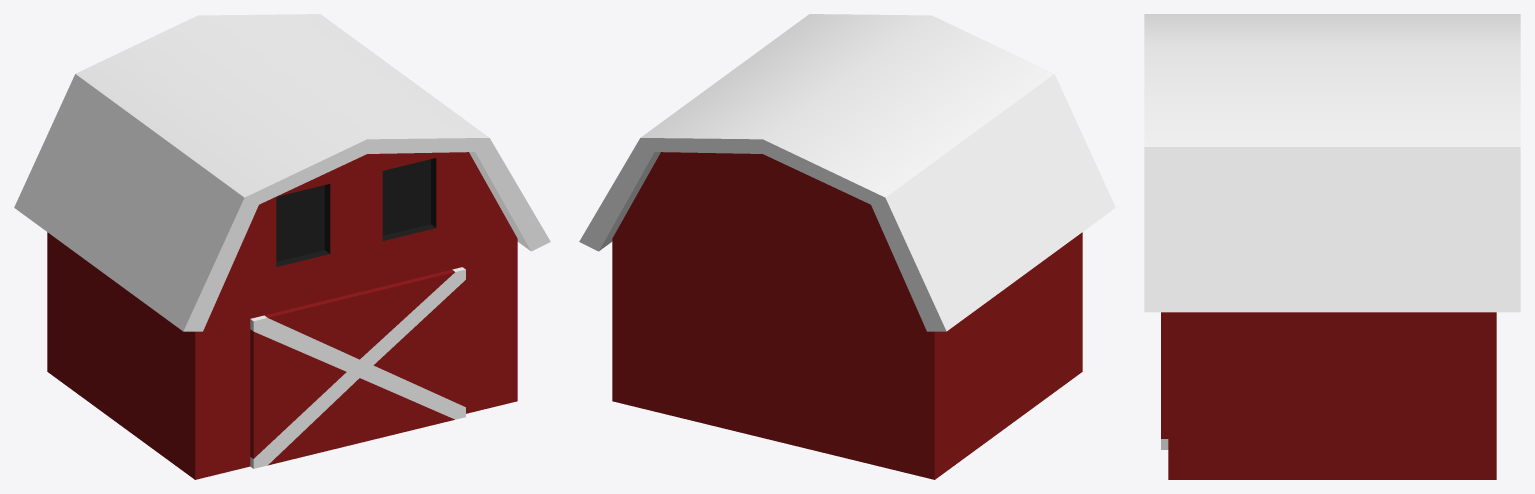
File: Grange.FBX
3 views of the same model, side by side, from view 1: azimuth 30°, elevation 25°; view 2: azimuth 150°, elevation 25°; view 3: azimuth 270°, elevation 25° (orthographic). The views are drawn at different scales.
Visible parts, largest first — view 1: Plane002, Object001; view 2: Plane002, Object001; view 3: Object001, Plane002.
Boxes of the visible parts, left/top/right/bottom form: Plane002: left=47, top=152, right=517, bottom=479; Object001: left=14, top=14, right=550, bottom=331; Plane002: left=612, top=152, right=1082, bottom=479; Object001: left=579, top=14, right=1115, bottom=331; Object001: left=1144, top=14, right=1520, bottom=312; Plane002: left=1161, top=312, right=1496, bottom=479.
Size of the model in its own units: 137 by 110 by 110.
